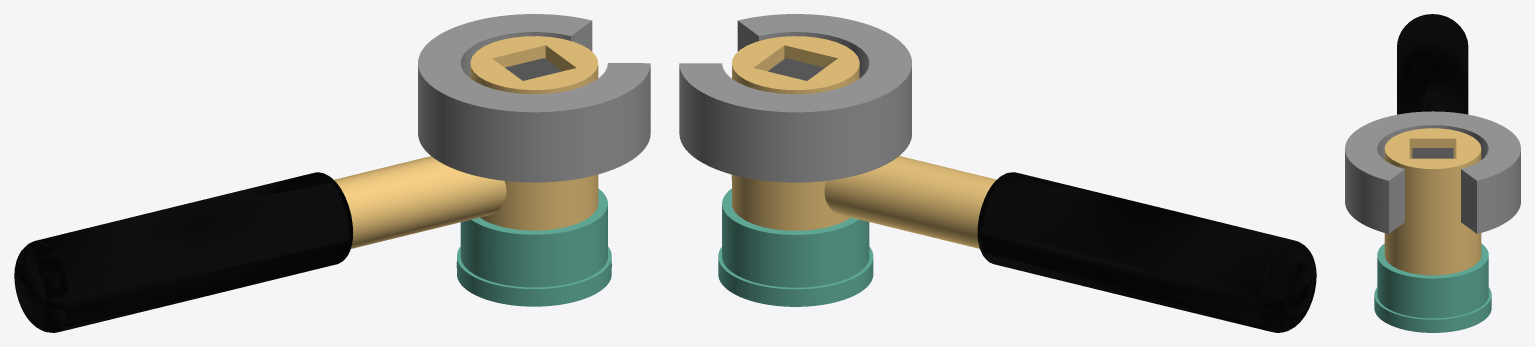
File: ブレーキ.fbx
The picture shows the model from 3 angles, left to right: view 1: azimuth 30°, elevation 25°; view 2: azimuth 150°, elevation 25°; view 3: azimuth 270°, elevation 25°; orthographic projection. The views are drawn at different scales.
Parts seen in each view (by area): view 1: 把手, 外縁部, 根元, Body4, 心棒; view 2: 把手, 外縁部, 根元, Body4, 心棒; view 3: 外縁部, 根元, Body4, 把手, 心棒.
Part boxes in pixels (x1,y1,x2,y2): 把手: (14,172,353,332); 外縁部: (418,14,650,182); 根元: (334,36,598,248); Body4: (456,188,611,306); 心棒: (505,58,561,80); 把手: (977,172,1316,332); 外縁部: (679,14,911,182); 根元: (731,36,996,248); Body4: (718,188,873,306); 心棒: (768,58,824,80); 外縁部: (1345,111,1520,233); 根元: (1384,128,1481,275); Body4: (1374,243,1491,332); 把手: (1397,14,1468,114); 心棒: (1412,148,1453,158).
Bounding box in the file's own units: 0.176 × 0.06 × 0.06.
